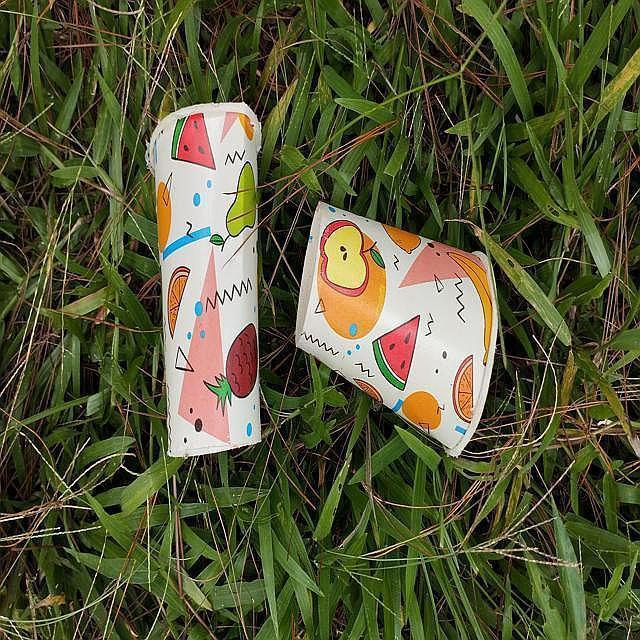Biodegradable: (287, 194, 514, 467), (149, 105, 269, 458)
